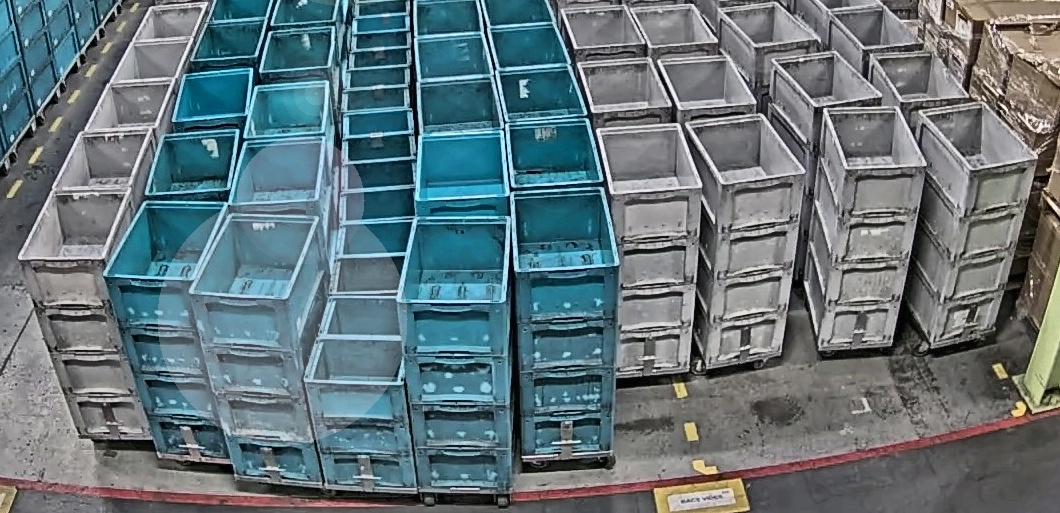4G: (18, 186, 153, 440), (905, 100, 1038, 342), (684, 113, 806, 366), (803, 106, 927, 347), (595, 123, 702, 373)
B4: (188, 212, 331, 483), (103, 200, 231, 459), (396, 217, 511, 490), (509, 186, 619, 456)
B8: (303, 296, 418, 488)
